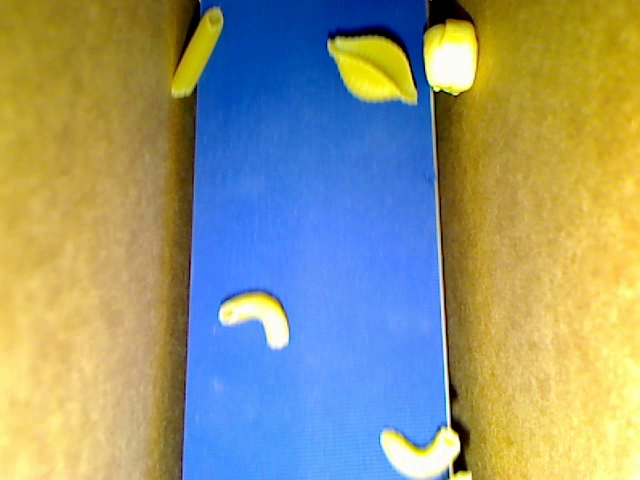elbow: (218, 290, 290, 350), (379, 426, 457, 477)
penne: (166, 7, 225, 98)
shell: (326, 33, 419, 109)
